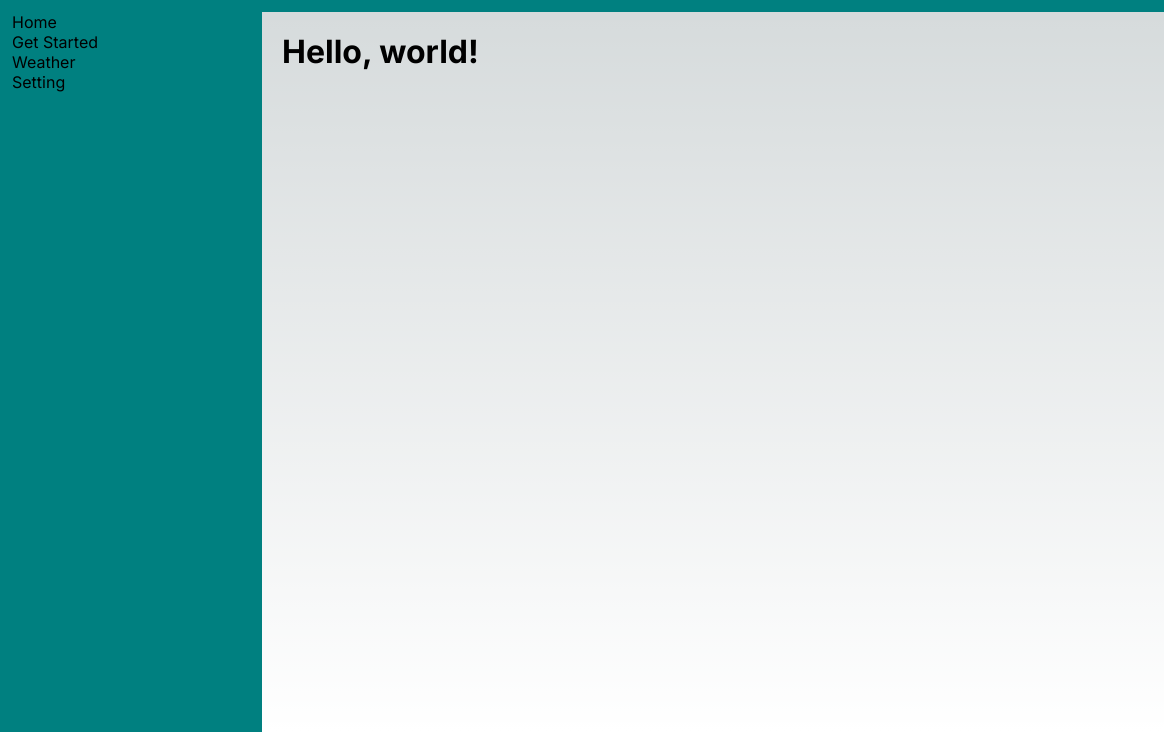
Scenario: navigation › setting navigation
The width and height of the screenshot is (1164, 732).
Click the link "Setting": (39, 82) [12,72,65,92]
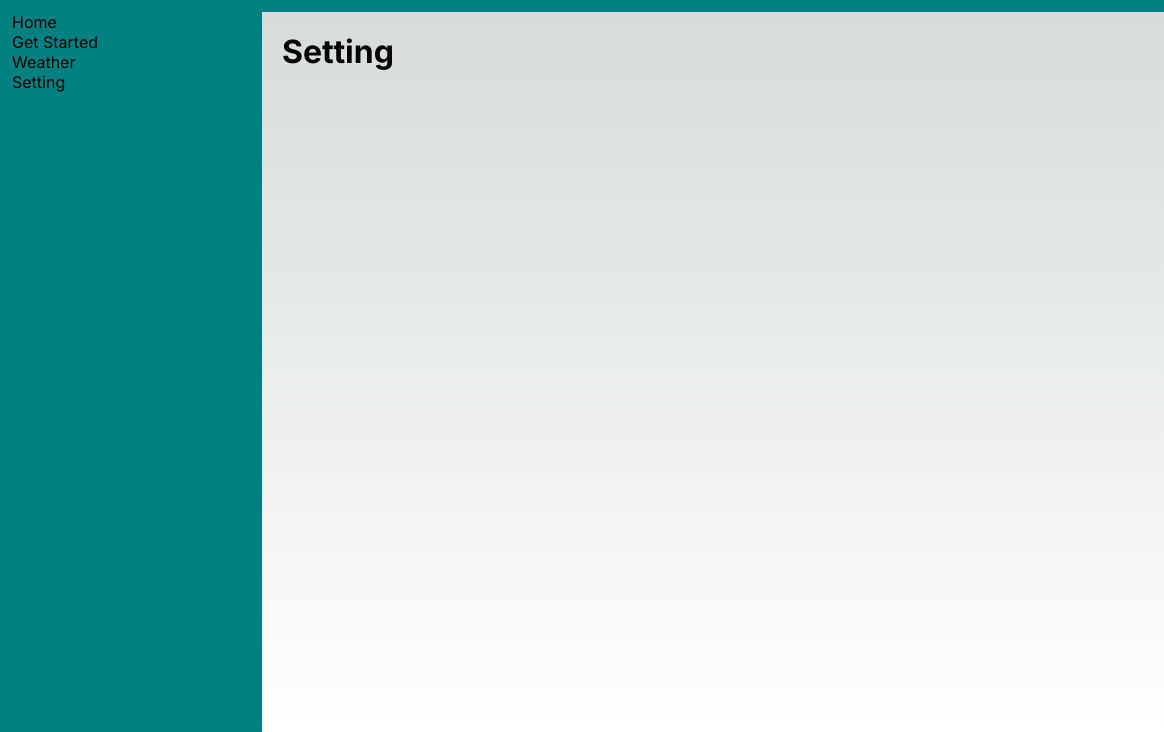
Result: the heading "Setting" is shown at [282,32,394,71]
